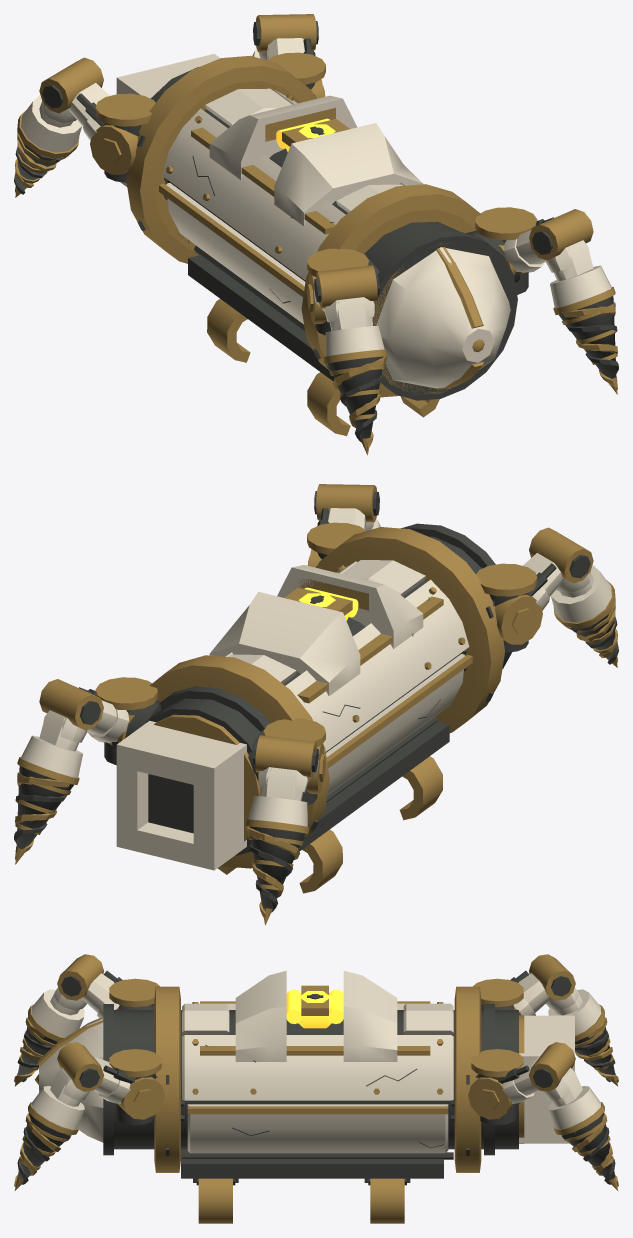
Rendered from kannuki.glb.
3 views of the same model, one above another, from view 1: azimuth 30°, elevation 25°; view 2: azimuth 150°, elevation 25°; view 3: azimuth 270°, elevation 25° (orthographic). The views are drawn at different scales.
Visible parts, largest first — view 1: body_brass, body, nose, body_dark, lid_f, lid_r, arm_rr_pitch_brass, arm_fr_elbow, arm_fl_elbow, arm_fr_pitch_brass, arm_rr_elbow, nose_brass (+18 smaller); view 2: body_brass, body, tail, body_dark, lid_r, lid_f, arm_fr_pitch_brass, arm_rr_elbow, arm_rl_elbow, arm_rr_pitch_brass, arm_fr_elbow, tail_dark (+18 smaller); view 3: body, body_dark, body_brass, lid_r, lid_f, tail, arm_fl_pitch_brass, arm_rl_pitch_brass, nose, arm_fl_elbow, arm_rl_elbow, arm_fr_elbow (+29 smaller).
Part boxes in pixels (bbox=[...]): body_brass: bbox=[126, 55, 481, 397]; body: bbox=[162, 88, 406, 324]; nose: bbox=[376, 247, 510, 388]; body_dark: bbox=[137, 67, 520, 400]; lid_f: bbox=[274, 123, 423, 225]; lid_r: bbox=[209, 95, 357, 179]; arm_rr_pitch_brass: bbox=[39, 57, 137, 174]; arm_fr_elbow: bbox=[324, 297, 384, 356]; arm_fl_elbow: bbox=[545, 240, 611, 307]; arm_fr_pitch_brass: bbox=[307, 265, 377, 324]; arm_rr_elbow: bbox=[21, 95, 81, 152]; nose_brass: bbox=[372, 242, 492, 394]; body_brass: bbox=[149, 527, 504, 868]; body: bbox=[224, 560, 469, 795]; tail: bbox=[116, 720, 246, 870]; body_dark: bbox=[112, 523, 511, 855]; lid_r: bbox=[209, 592, 360, 695]; lid_f: bbox=[277, 565, 423, 648]; arm_fr_pitch_brass: bbox=[495, 527, 593, 644]; arm_rr_elbow: bbox=[248, 767, 308, 826]; arm_rl_elbow: bbox=[21, 710, 87, 777]; arm_rr_pitch_brass: bbox=[255, 735, 325, 794]; arm_fr_elbow: bbox=[551, 565, 611, 622]; tail_dark: bbox=[148, 774, 193, 833]; body: bbox=[182, 1003, 453, 1153]; body_dark: bbox=[103, 1004, 520, 1178]; body_brass: bbox=[154, 986, 481, 1172]; lid_r: bbox=[343, 971, 397, 1061]; lid_f: bbox=[235, 970, 286, 1061]; tail: bbox=[519, 1015, 574, 1143]; arm_fl_pitch_brass: bbox=[57, 1042, 164, 1119]; arm_rl_pitch_brass: bbox=[468, 1042, 575, 1119]; nose: bbox=[39, 1016, 103, 1142]; arm_fl_elbow: bbox=[31, 1068, 90, 1129]; arm_rl_elbow: bbox=[542, 1068, 601, 1129]; arm_fr_elbow: bbox=[31, 987, 86, 1037].
Bounding box in the file's own units: 5.24 × 4.51 × 11.28.
